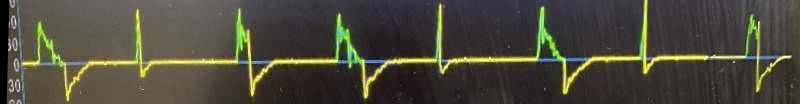hydrop_flow: (14, 0, 792, 104)
